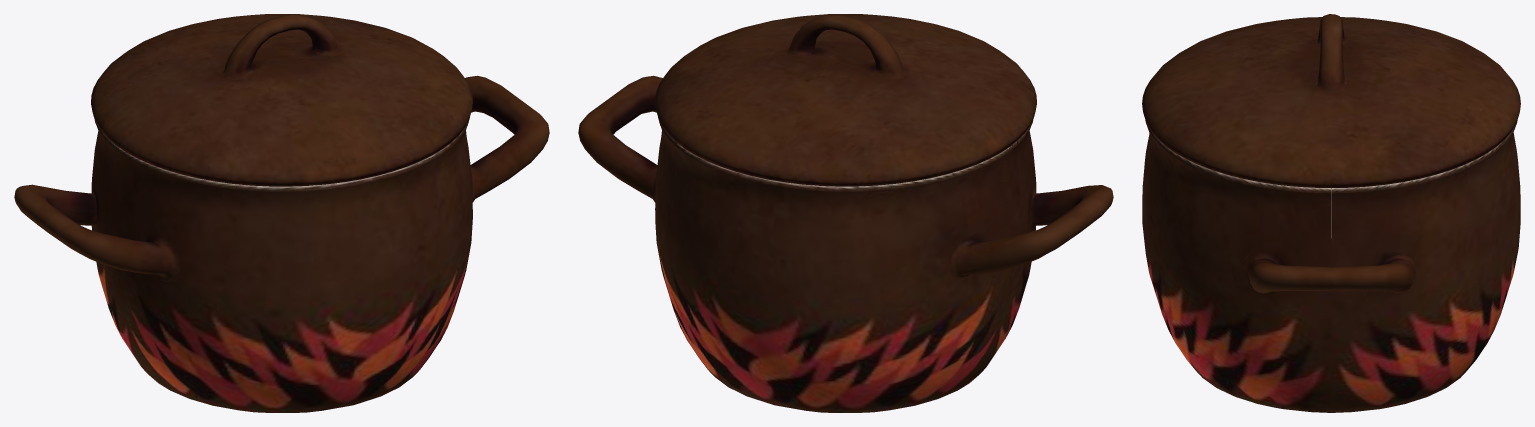
The model's file is pot_enamel_01.glb.
The picture shows the model from 3 angles, left to right: view 1: azimuth 30°, elevation 25°; view 2: azimuth 150°, elevation 25°; view 3: azimuth 270°, elevation 25°; orthographic projection.
Parts seen in each view (by area): view 1: pot_enamel_01_base, pot_enamel_01_lid; view 2: pot_enamel_01_base, pot_enamel_01_lid; view 3: pot_enamel_01_base, pot_enamel_01_lid.
Boxes of the visible parts, x1,y1,x2,y2 form: pot_enamel_01_base: (14, 75, 549, 412); pot_enamel_01_lid: (91, 14, 472, 186); pot_enamel_01_base: (578, 75, 1113, 412); pot_enamel_01_lid: (655, 14, 1036, 186); pot_enamel_01_base: (1142, 120, 1520, 412); pot_enamel_01_lid: (1142, 14, 1520, 188).
Size of the model in its own units: 0.2629 by 0.1782 by 0.1805.
1 material, 1 textured.
